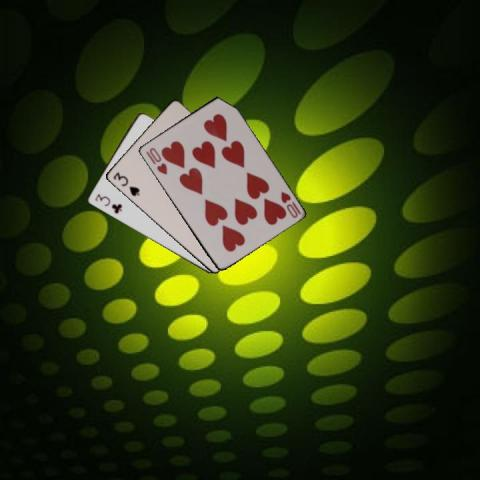10h: (143, 144, 168, 176), (277, 188, 302, 219)
3c: (92, 192, 124, 216)
3s: (110, 169, 141, 198)
